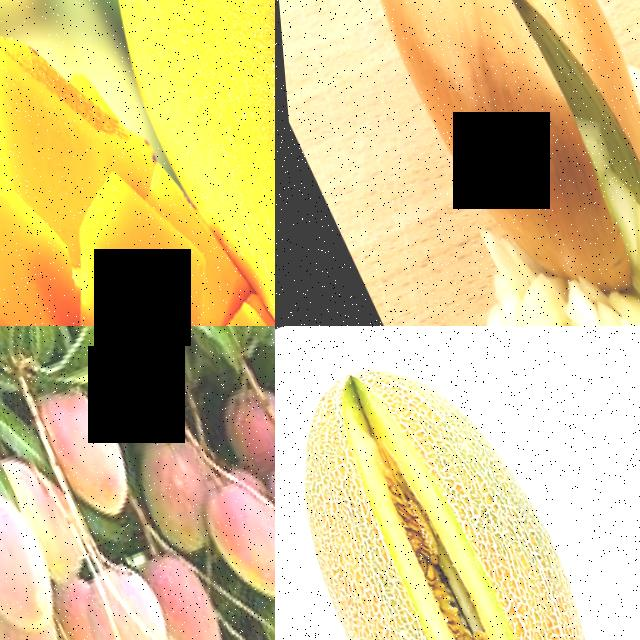mango: (76, 0, 275, 326), (31, 386, 142, 525), (187, 468, 275, 616), (0, 482, 66, 640), (129, 543, 230, 640), (62, 563, 182, 640), (118, 423, 210, 519)
melon: (275, 326, 604, 640)
onion: (294, 0, 640, 316)
